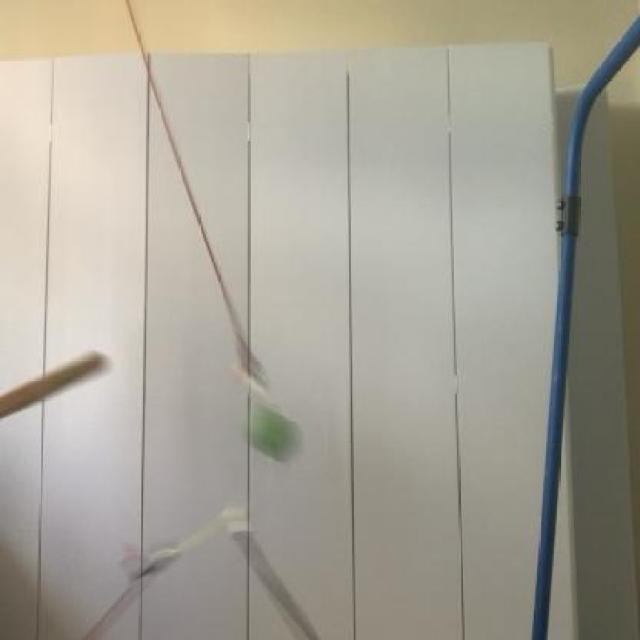baseball: (232, 401, 310, 473)
